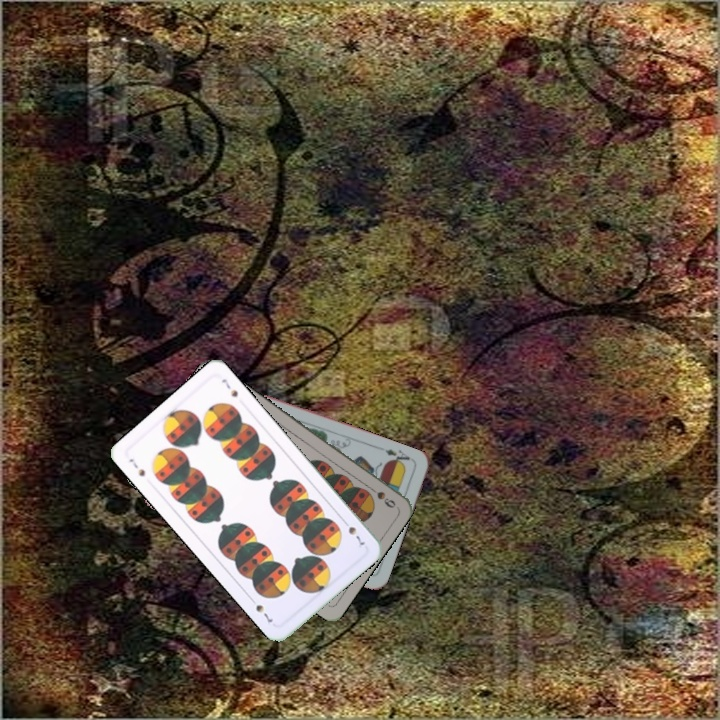EA: (376, 443, 416, 469)
S7: (338, 515, 367, 548), (125, 454, 148, 479)
S9: (363, 481, 398, 511)
